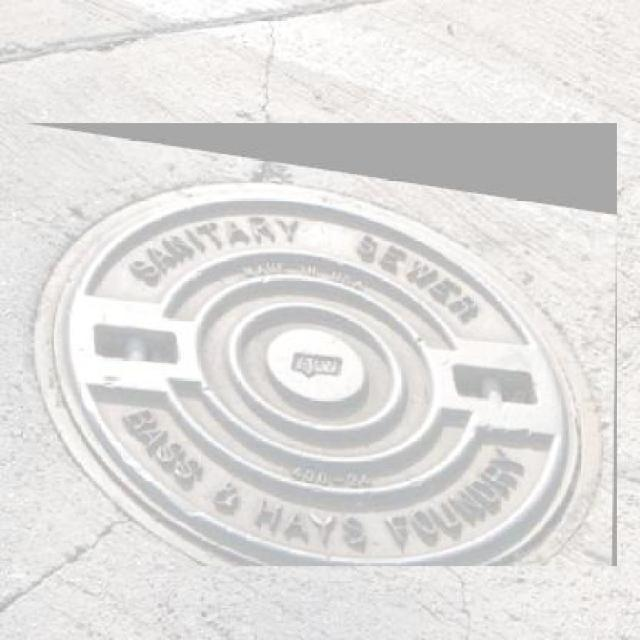Manhole: (24, 123, 618, 566)
